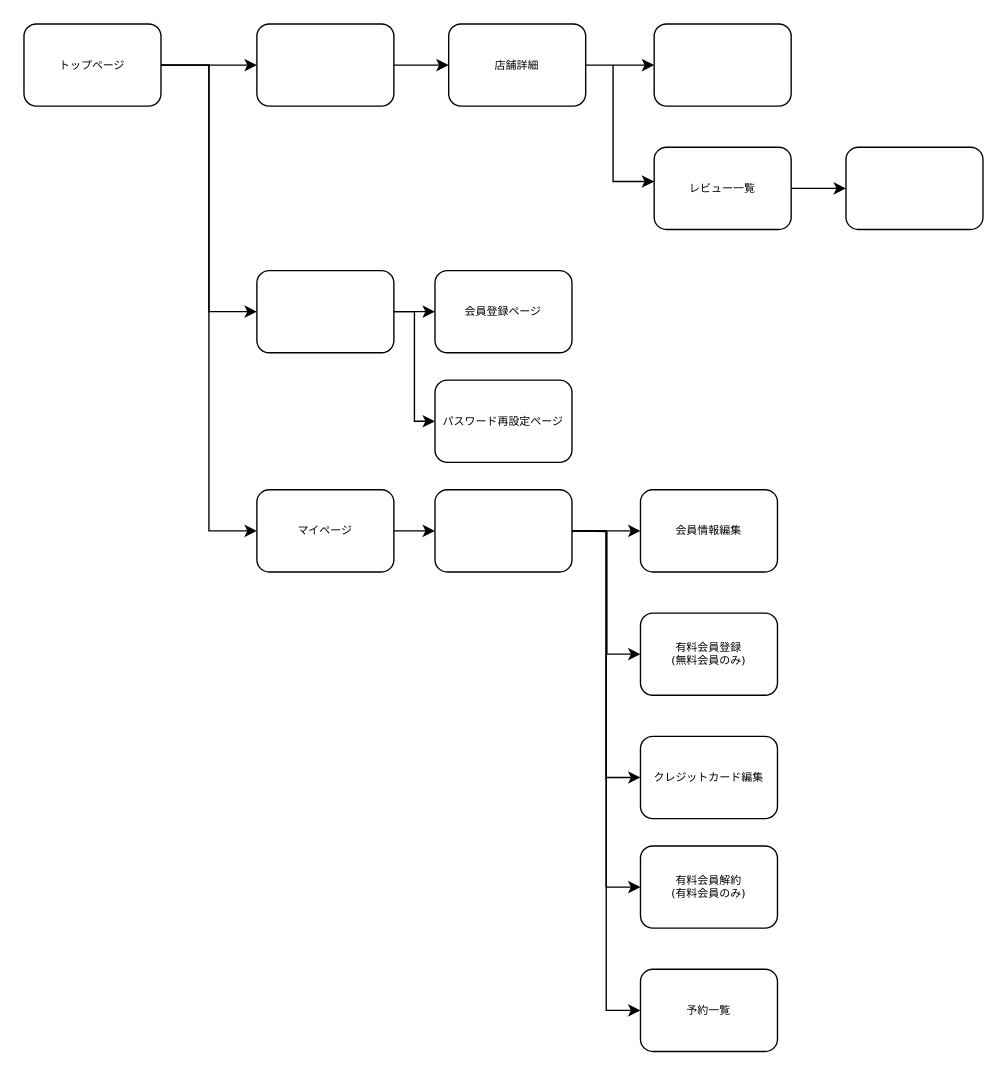
Some shapes in this 1007 by 1075 pixel diagram are drawn without their labels. The shapes that lost their labels are listed below. From the top down, each one's centre as x and y in pixels, then its label:
point 325,64: 検索結果
point 722,64: 予約 (有料会員のみ)
point 914,187: レビュー投稿 (有料会員のみ)
point 325,311: ログインページ
point 503,530: 会員情報
